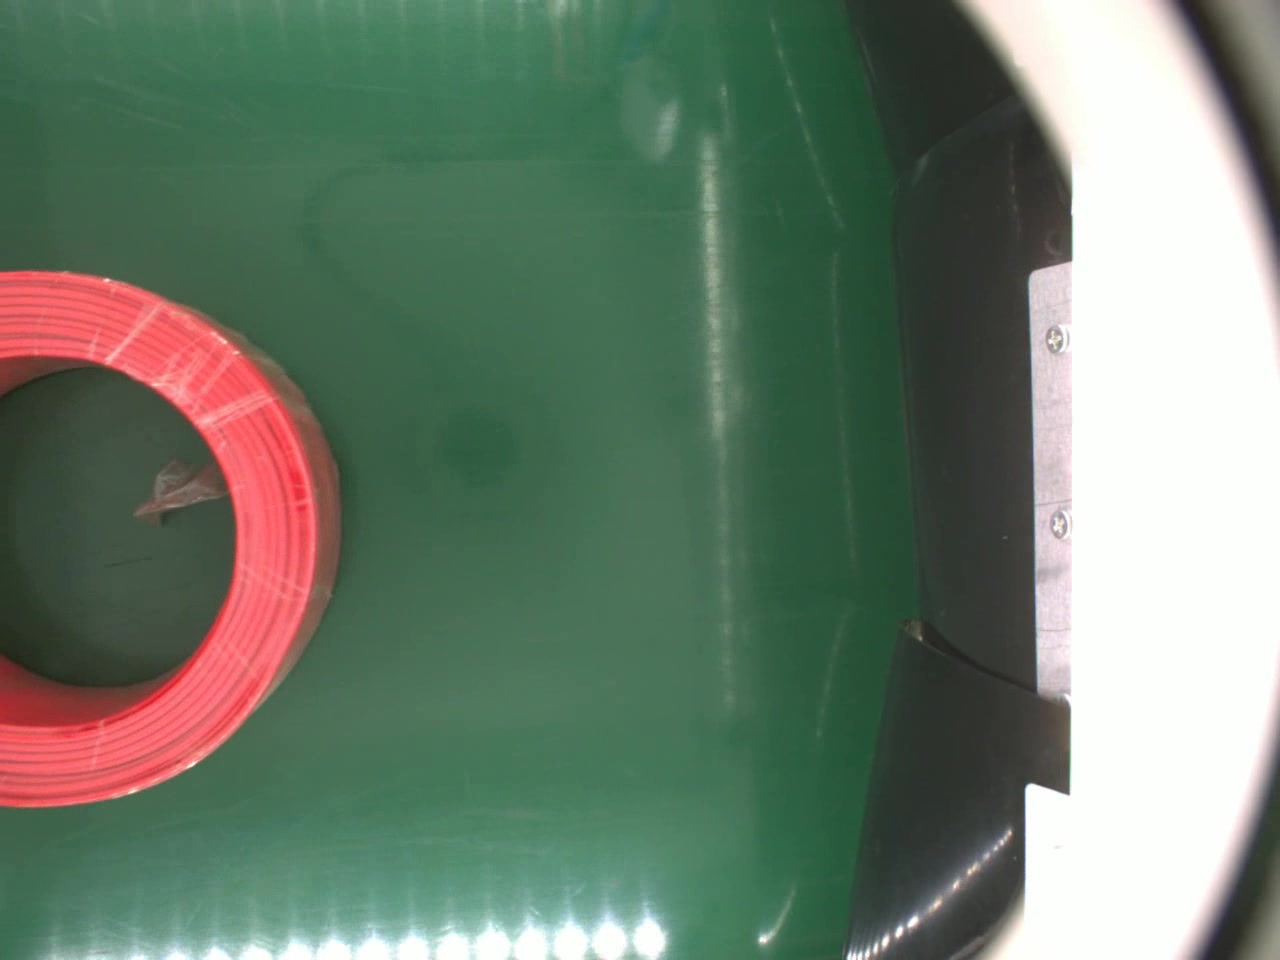red: (0, 266, 343, 810)
